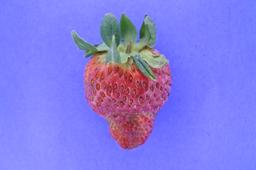red strawberry: (70, 11, 173, 151)
